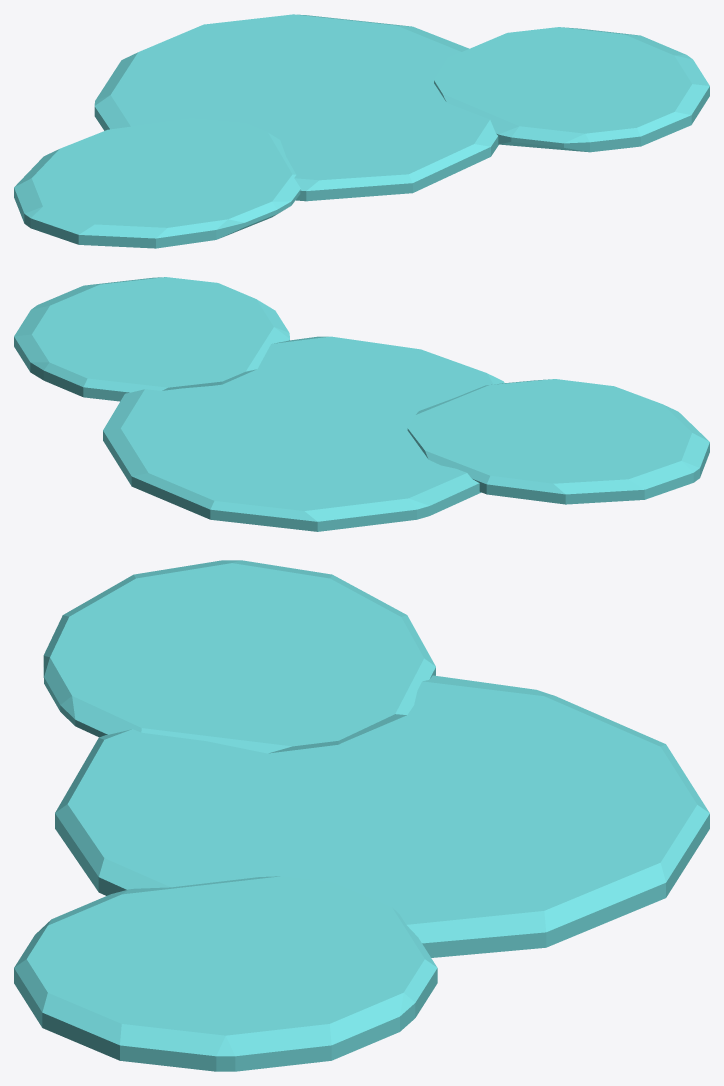
File: cloud.fbx
3 renders of one model, top to bottom at view 1: azimuth 30°, elevation 25°; view 2: azimuth 150°, elevation 25°; view 3: azimuth 270°, elevation 25°, orthographic. The views are drawn at different scales.
Visible parts, largest first — view 1: Cube; view 2: Cube; view 3: Cube.
Part boxes in pixels (x1=…): Cube: x1=14, y1=14, x2=709, y2=248; Cube: x1=14, y1=277, x2=709, y2=531; Cube: x1=14, y1=560, x2=709, y2=1071.
Size of the model in its own units: 588 by 17.68 by 350.
